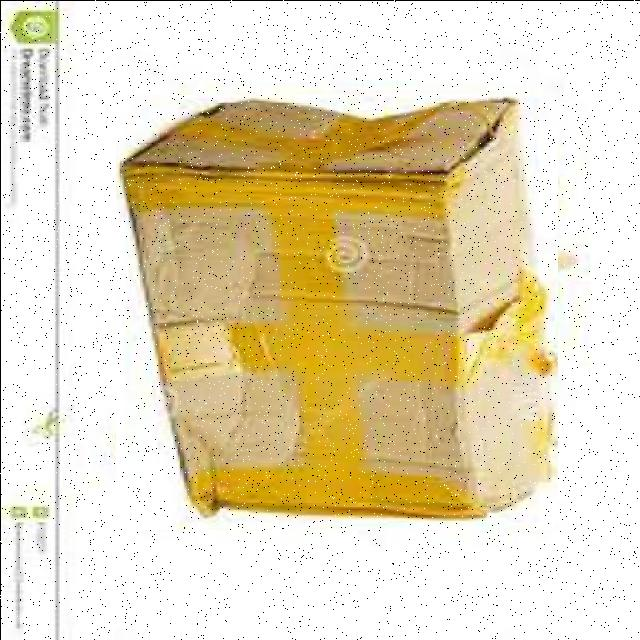normal: (115, 94, 557, 529)
